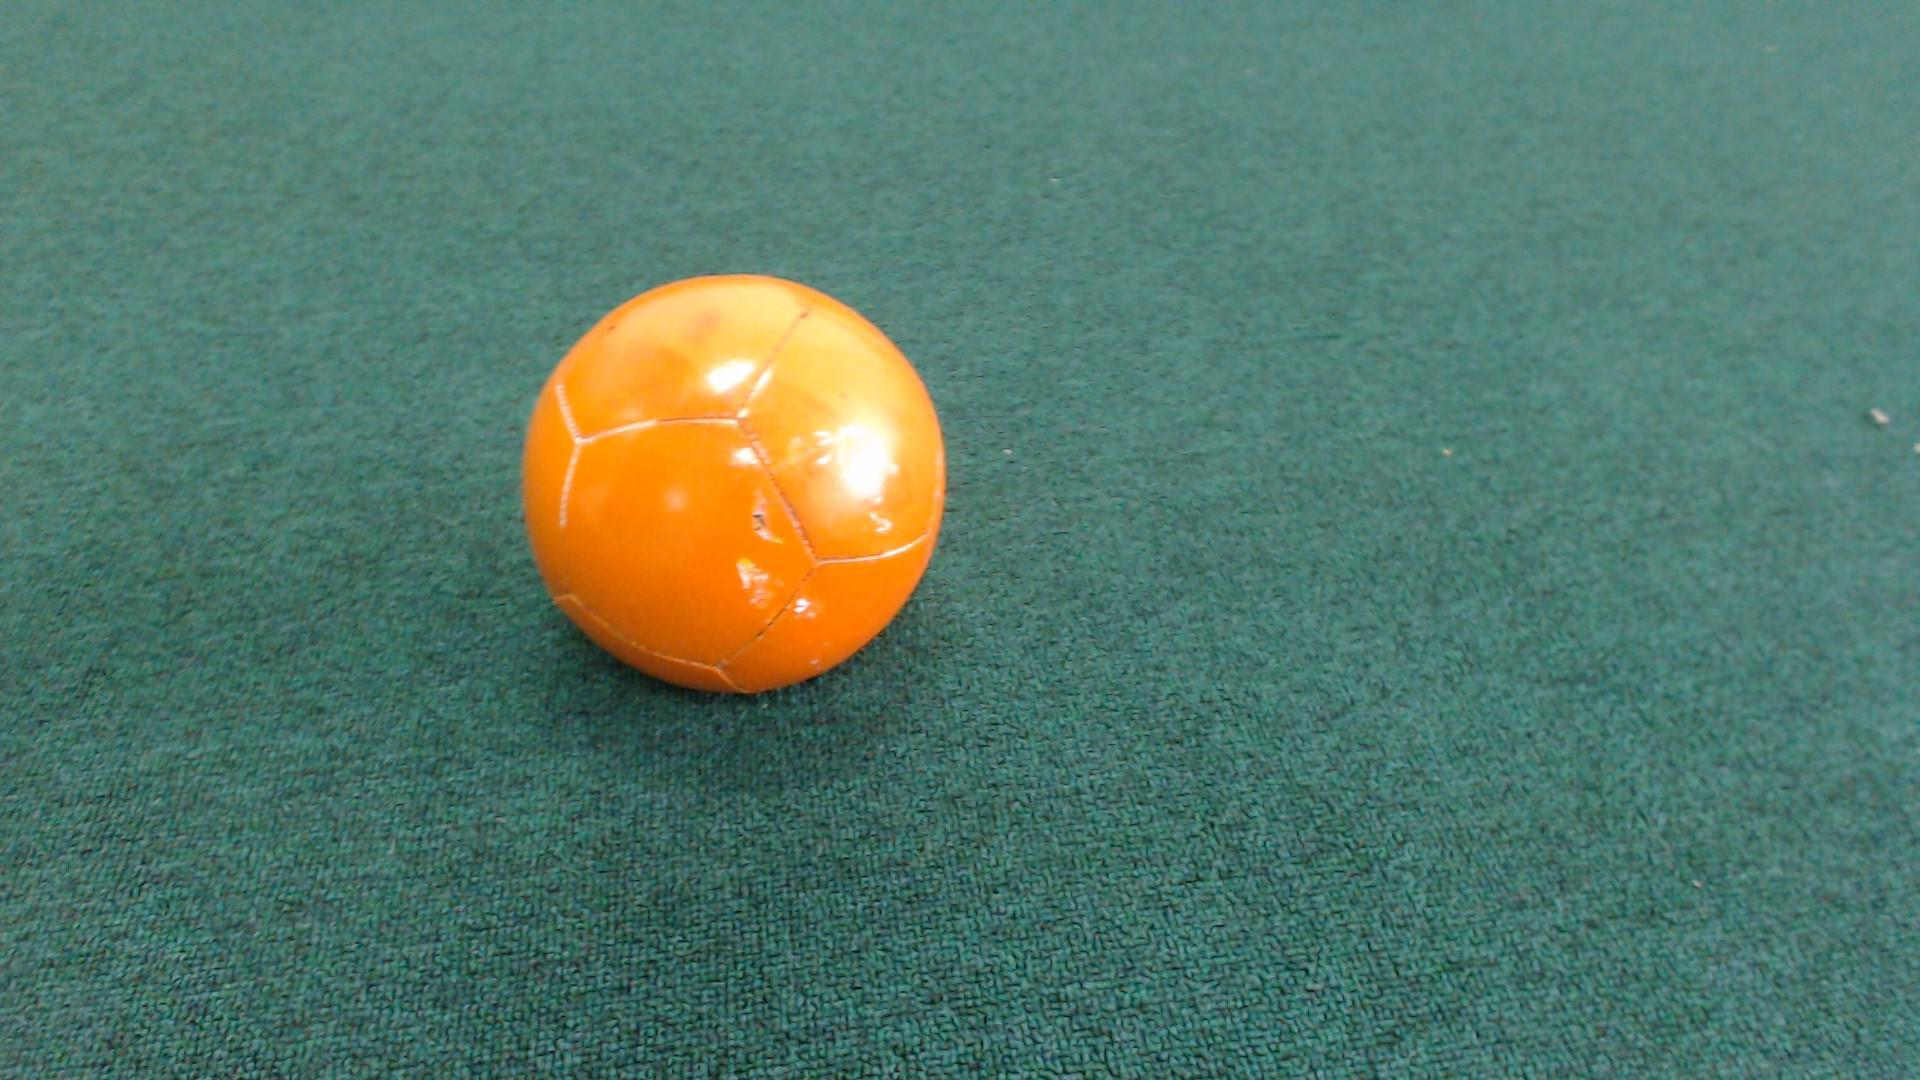bola: (506, 244, 943, 711)
